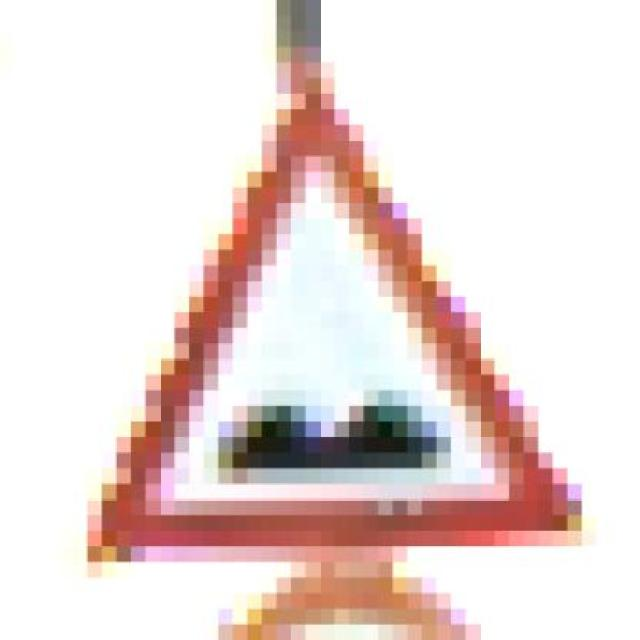Uneven Road: (87, 93, 582, 562)
